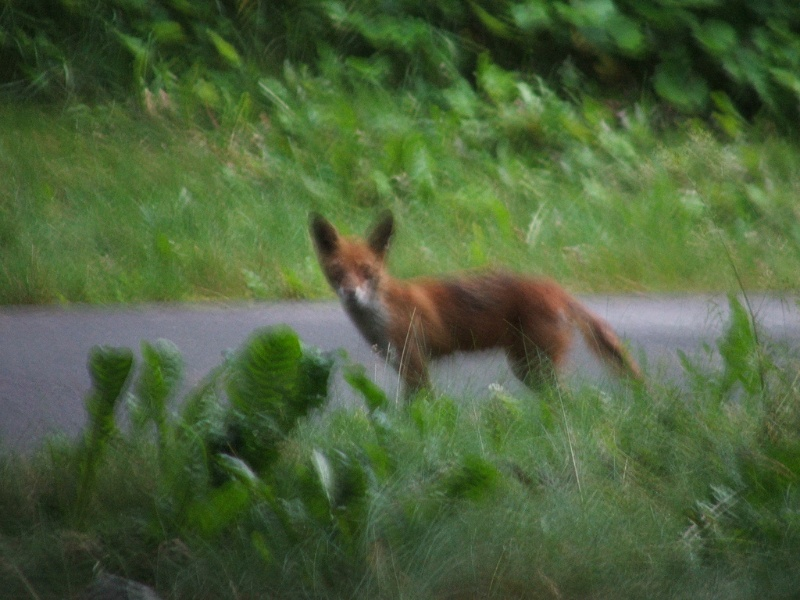fox: (306, 212, 654, 417)
